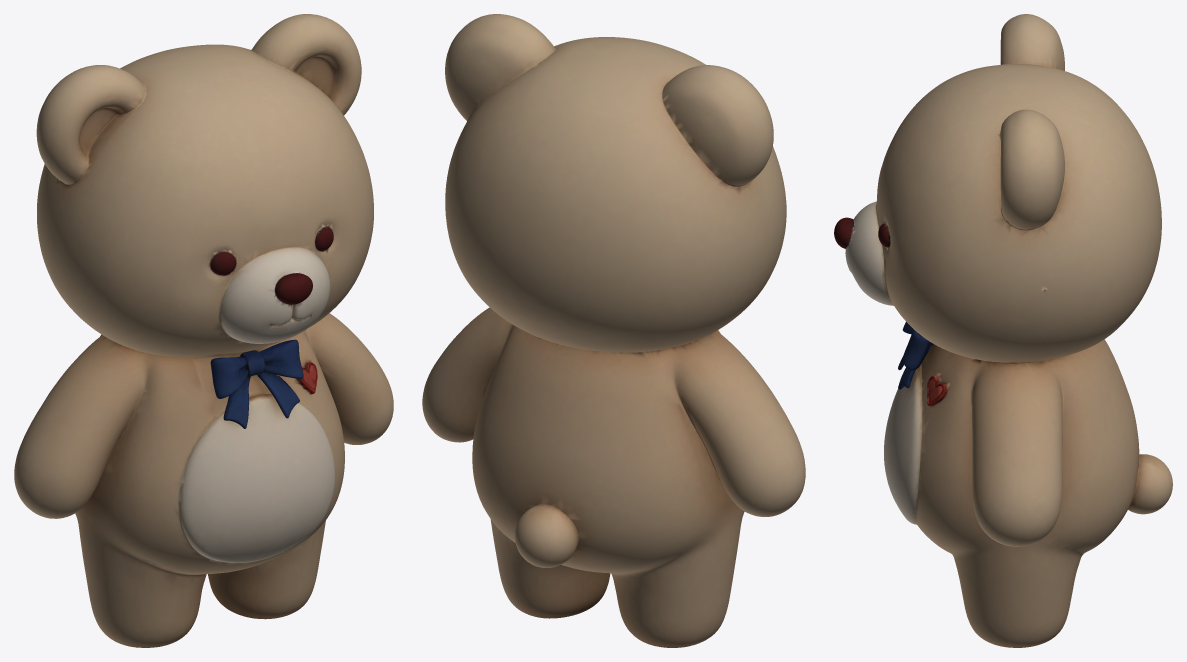
The model's file is bear.glb.
3 views of the same model, side by side, from view 1: azimuth 30°, elevation 25°; view 2: azimuth 150°, elevation 25°; view 3: azimuth 270°, elevation 25° (orthographic). The views are drawn at different scales.
Parts seen in each view (by area): view 1: tripo_node_6a87ae4d-ca7b-409f-be95-700a80483834; view 2: tripo_node_6a87ae4d-ca7b-409f-be95-700a80483834; view 3: tripo_node_6a87ae4d-ca7b-409f-be95-700a80483834.
Part boxes in pixels (x1,y1,x2,y2): tripo_node_6a87ae4d-ca7b-409f-be95-700a80483834: [14, 14, 393, 647]; tripo_node_6a87ae4d-ca7b-409f-be95-700a80483834: [422, 14, 805, 647]; tripo_node_6a87ae4d-ca7b-409f-be95-700a80483834: [834, 14, 1172, 647].
Size of the model in its own units: 0.6544 by 0.9796 by 0.5548.
1 material, 1 textured.
